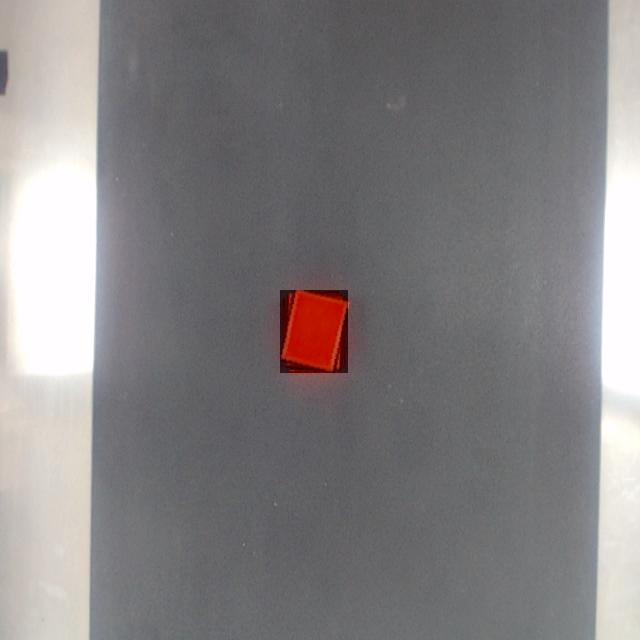Rojo: (280, 291, 348, 373)
